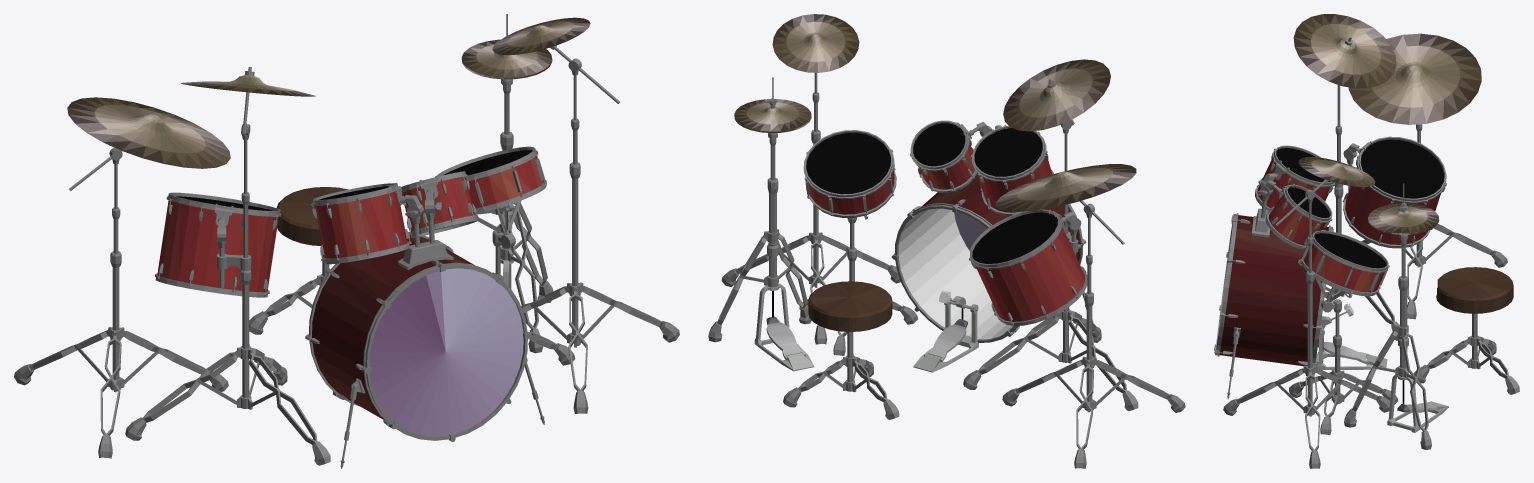
File: drums.fbx
3 renders of one model, left to right at view 1: azimuth 30°, elevation 25°; view 2: azimuth 150°, elevation 25°; view 3: azimuth 270°, elevation 25°, orthographic. The views are drawn at different scales.
Visible parts, largest first — view 1: polySurface792, polySurface352; view 2: polySurface792, polySurface352; view 3: polySurface792, polySurface352.
Part boxes in pixels (<box>): polySurface792: <box>14,14,679,468</box>; polySurface352: <box>312,235,474,419</box>; polySurface792: <box>708,14,1185,468</box>; polySurface352: <box>921,175,1080,261</box>; polySurface792: <box>1214,14,1519,468</box>; polySurface352: <box>1219,215,1328,366</box>.
Size of the model in its own units: 302 by 188 by 182.
